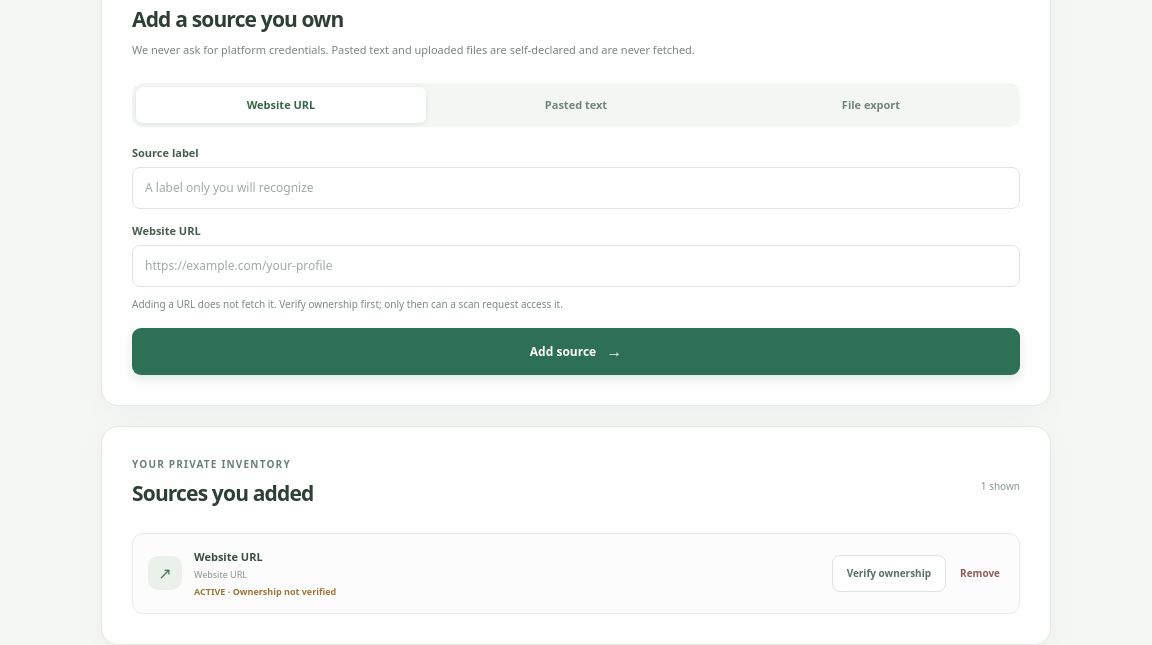
consent and source management › displays the ownership token and verifies a URL without sending a proof value
(page scrolled)
Check: the heading "Sources you added" is shown, box [132, 478, 314, 506]
Click the button "Verify ownership".
click(889, 573)  # box [832, 554, 946, 592]
(page scrolled)
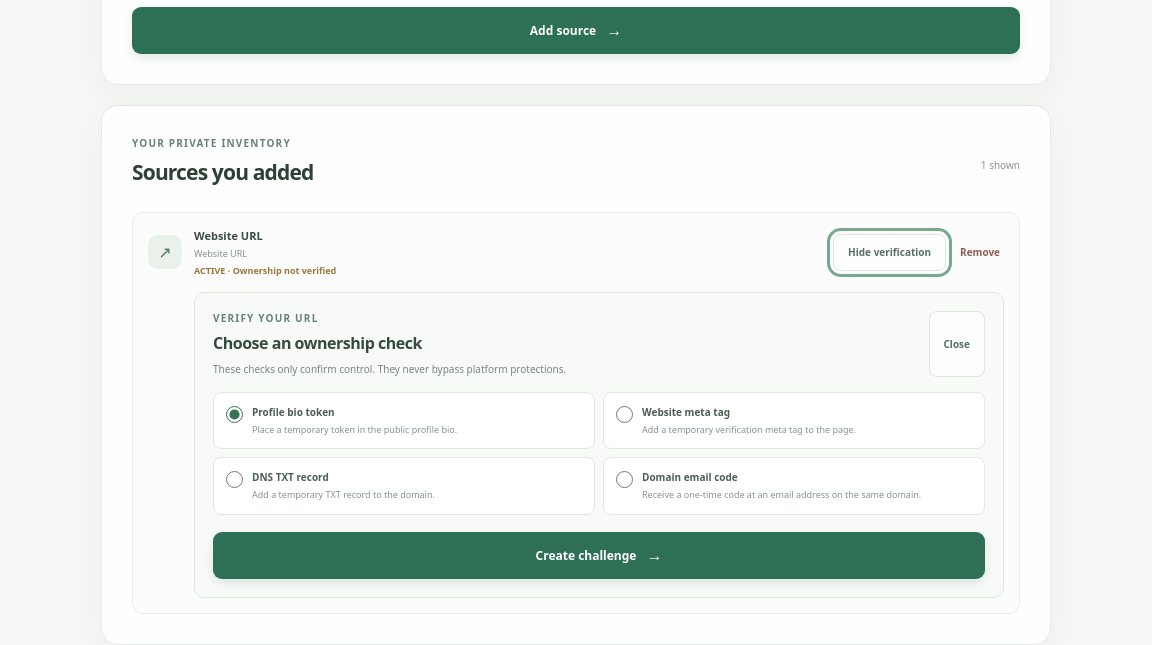
Click the button "Create challenge →".
click(599, 555)  # box [213, 532, 985, 578]
(page scrolled)
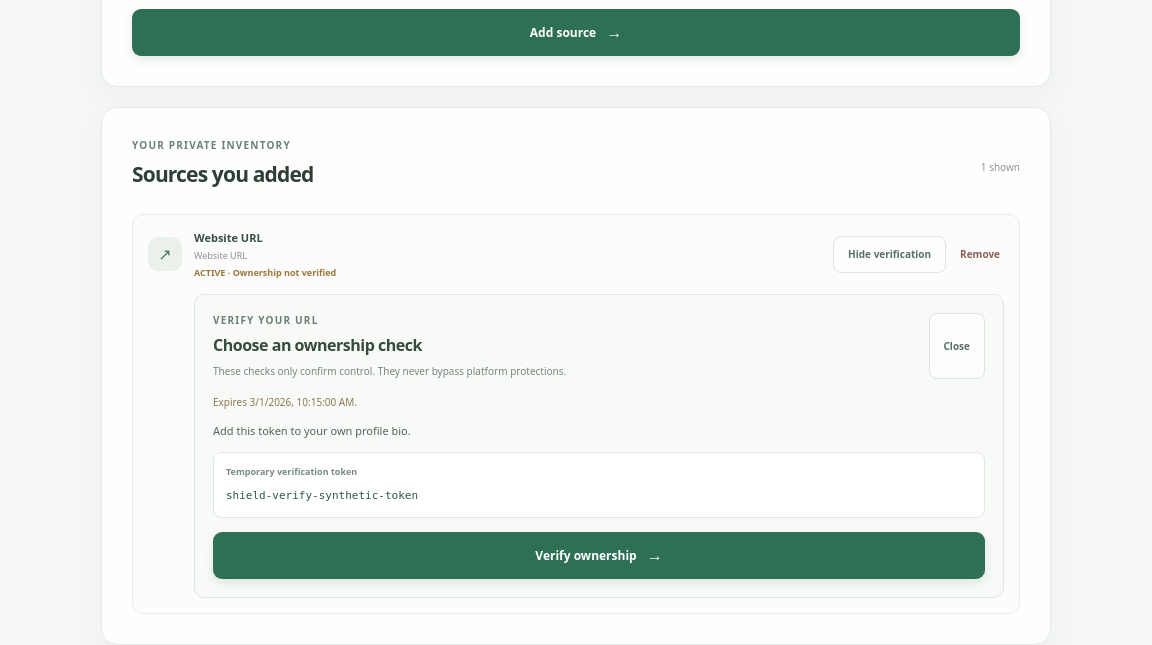
Check: the text "shield-verify-synthetic-token" is shown, box [226, 489, 418, 502]
Click the button "Verify ownership →".
click(599, 556)  # box [213, 532, 985, 579]
(page scrolled)
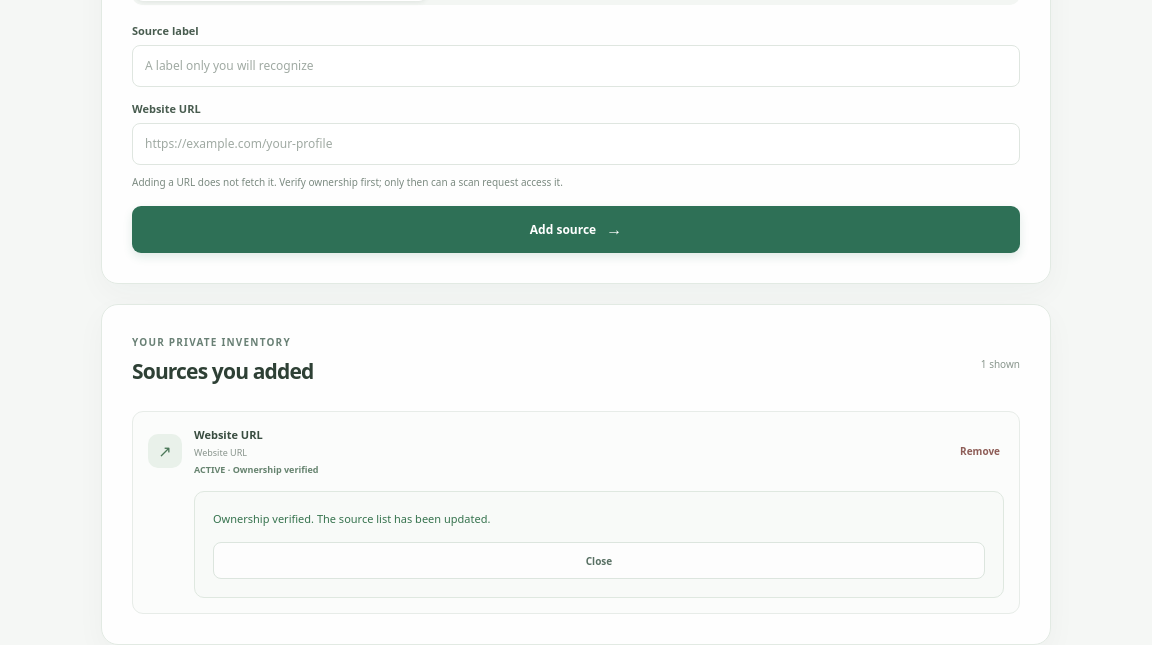
Check: the text "Ownership verified. The source list has been updated." is shown, box [213, 510, 490, 526]
